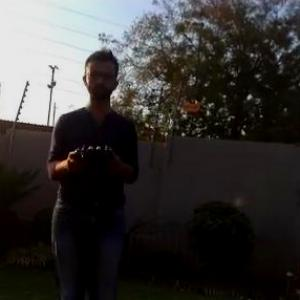follow: (42, 43, 144, 299)
